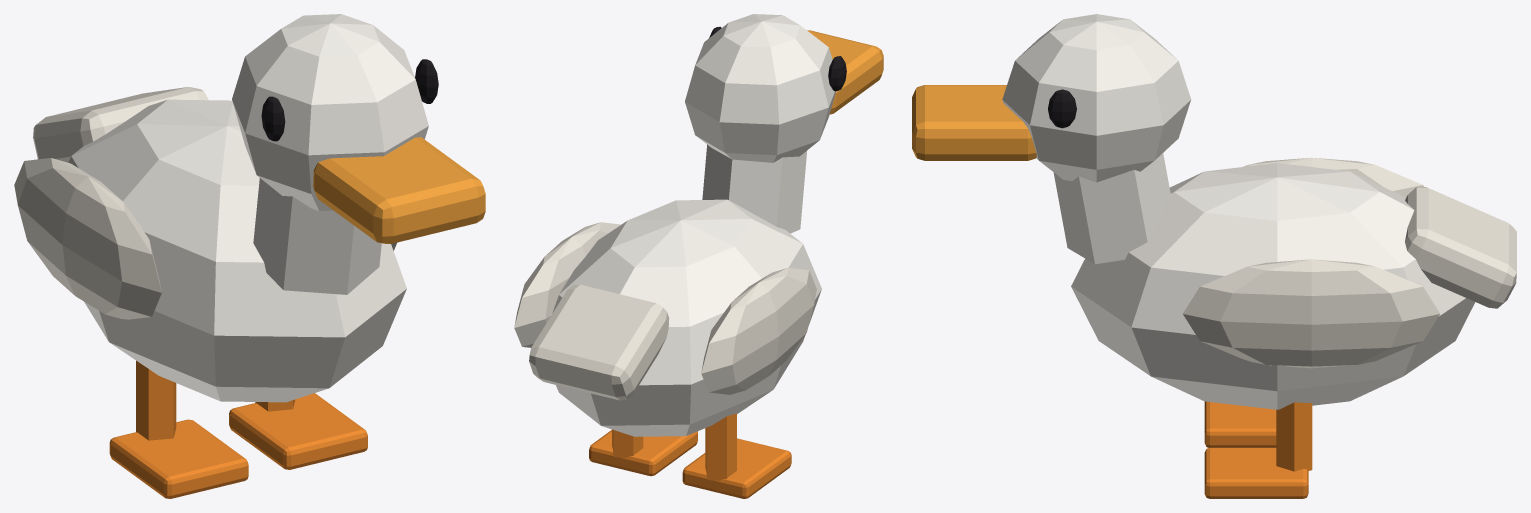
Rendered from duck_white.glb.
3 renders of one model, left to right at view 1: azimuth 30°, elevation 25°; view 2: azimuth 150°, elevation 25°; view 3: azimuth 270°, elevation 25°, orthographic. The views are drawn at different scales.
Parts seen in each view (by area): view 1: body_mesh, head_mesh, wing_r_mesh, leg_r_mesh, leg_l_mesh; view 2: body_mesh, head_mesh, wing_r_mesh, leg_r_mesh, wing_l_mesh, leg_l_mesh; view 3: body_mesh, head_mesh, wing_l_mesh, leg_l_mesh, leg_r_mesh, wing_r_mesh.
Boxes of the visible parts, x1,y1,x2,y2 form: body_mesh: (33,87,406,402); head_mesh: (232,14,485,294); wing_r_mesh: (14,158,161,319); leg_r_mesh: (109,360,248,498); leg_l_mesh: (229,393,367,469); body_mesh: (529,199,821,436); head_mesh: (685,14,883,233); wing_r_mesh: (701,268,816,394); leg_r_mesh: (682,413,791,498); wing_l_mesh: (514,222,620,347); leg_l_mesh: (589,429,697,476); body_mesh: (1071,163,1516,409); head_mesh: (912,14,1191,264); wing_l_mesh: (1183,259,1439,368); leg_l_mesh: (1204,402,1312,498); leg_r_mesh: (1204,401,1276,447); wing_r_mesh: (1243,157,1423,197).
Size of the model in its own units: 0.34 by 0.56 by 0.704.
